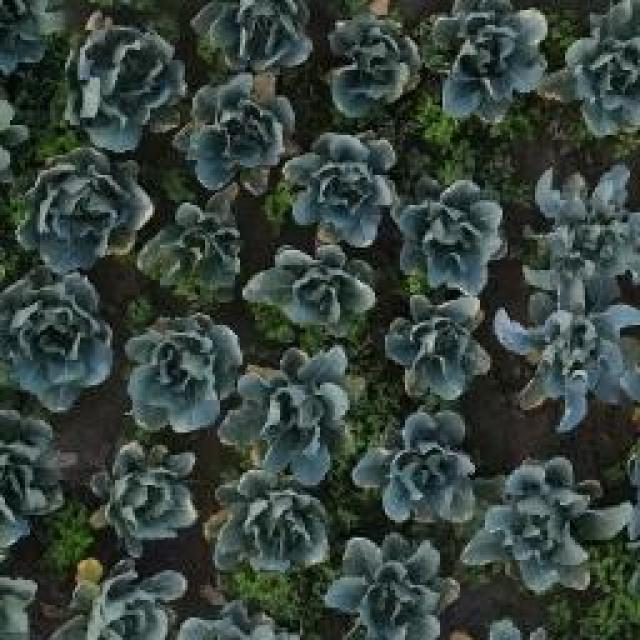cabbage: (505, 281, 640, 420), (473, 457, 607, 591), (225, 346, 357, 479), (62, 12, 188, 151), (0, 267, 112, 412), (519, 164, 637, 292), (432, 0, 548, 123), (203, 468, 330, 577), (120, 314, 240, 429), (88, 435, 198, 553), (327, 534, 445, 640), (393, 177, 504, 286), (555, 0, 640, 136), (257, 240, 377, 336), (384, 290, 490, 398), (323, 3, 425, 115), (190, 0, 315, 75), (66, 572, 188, 640), (42, 161, 134, 251), (379, 418, 463, 510), (187, 93, 274, 180), (299, 138, 385, 220), (149, 208, 236, 289)
